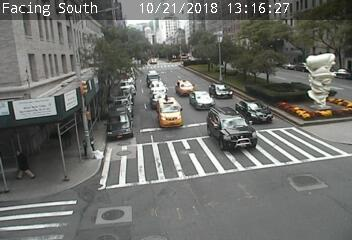car: (208, 111, 248, 146), (158, 104, 181, 125), (242, 103, 267, 121), (186, 91, 213, 106), (150, 80, 169, 93), (212, 87, 234, 98), (177, 80, 193, 92), (149, 72, 161, 82), (149, 94, 163, 102)
